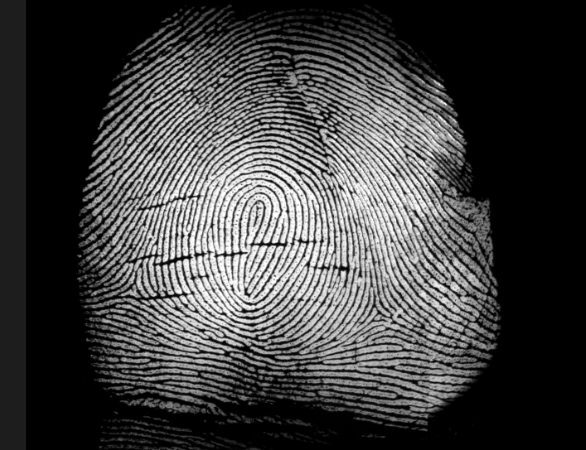nucelo: (246, 198, 268, 224)
verticilo: (365, 298, 391, 323), (120, 280, 144, 301)
